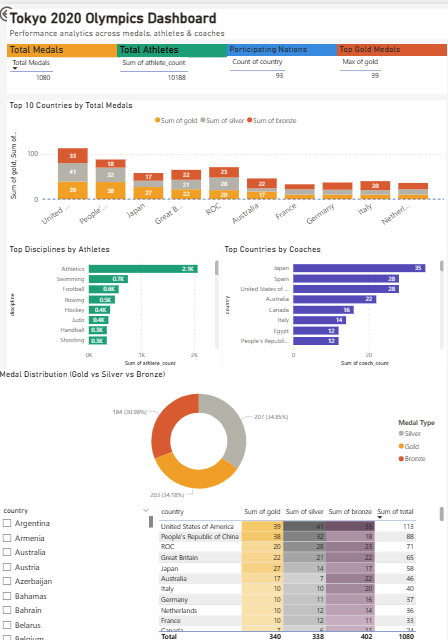

What the dashboard file says about the page in this screenshot:
{"tool":"powerbi","page":{"name":"Page 1","canvas":[1280,1280],"ordinal":0},"visuals":[{"type":"actionButton","box":[0,0,100,40],"z":0},{"type":"tableEx","title":"Total Athletes","fields":{"Values":["country_medal_summary.athlete_count"]},"box":[20,80,220,100],"z":1000},{"type":"tableEx","title":"Total Medals","fields":{"Values":["country_medal_summary.Total Medals"]},"box":[250,80,220,100],"z":2000},{"type":"tableEx","title":"Participating Nations","fields":{"Values":["country_medal_summary.country"]},"box":[480,80,220,100],"z":3000},{"type":"tableEx","title":"Top Gold Medals","fields":{"Values":["Max(top_countries_by_medals.gold)"]},"box":[710,80,220,100],"z":4000},{"type":"columnChart","title":"Top 10 Countries by Medals","fields":{"Category":["top_countries_by_medals.country"],"Y":["Sum(top_countries_by_medals.gold)","Sum(top_countries_by_medals.silver)","Sum(top_countries_by_medals.bronze)"]},"box":[20,180,886,280],"z":5000},{"type":"clusteredBarChart","title":"Top Disciplines by athlete count","fields":{"Category":["top_disciplines_by_athletes.discipline"],"Y":["Sum(top_disciplines_by_athletes.athlete_count)"]},"box":[20,480,429,250],"z":6000},{"type":"clusteredBarChart","title":"Top Coaches by Country","fields":{"Category":["coach_count_by_country.country"],"Y":["Sum(coach_count_by_country.coach_count)"]},"box":[449,480,449,250],"z":7000},{"type":"donutChart","title":"Medal Breakdown -","fields":{"Category":["MedalBreakdown.Medal Type"],"Y":["Sum(MedalBreakdown.Count)"]},"box":[0,740,898,260],"z":8000},{"type":"tableEx","fields":{"Values":["top_countries_by_medals.country","Sum(top_countries_by_medals.gold)","Sum(top_countries_by_medals.silver)","Sum(top_countries_by_medals.bronze)","Sum(top_countries_by_medals.total)"]},"box":[390,1000,580,280],"z":9000},{"type":"slicer","fields":{"Values":["country_medal_summary.country"]},"box":[0,1000,275,280],"z":9001},{"type":"textbox","title":"Tokyo 2020 Olympics Dashboard","box":[20,10,1240,60],"z":9002}]}

Visuals, with their boxes on the page's 1280x1280 design canvas (x1, y1, x2, y2). These are canvas units, not pixel positions in the 448x640 screenshot, which may show the page scaled, cropped or inside an application window:
actionButton: [0,0,100,40]
"Total Athletes" tableEx: [20,80,240,180]
"Total Medals" tableEx: [250,80,470,180]
"Participating Nations" tableEx: [480,80,700,180]
"Top Gold Medals" tableEx: [710,80,930,180]
"Top 10 Countries by Medals" columnChart: [20,180,906,460]
"Top Disciplines by athlete count" clusteredBarChart: [20,480,449,730]
"Top Coaches by Country" clusteredBarChart: [449,480,898,730]
"Medal Breakdown -" donutChart: [0,740,898,1000]
tableEx - top_countries_by_medals.country x Sum(top_countries_by_medals.gold): [390,1000,970,1280]
slicer - country_medal_summary.country: [0,1000,275,1280]
"Tokyo 2020 Olympics Dashboard" textbox: [20,10,1260,70]
